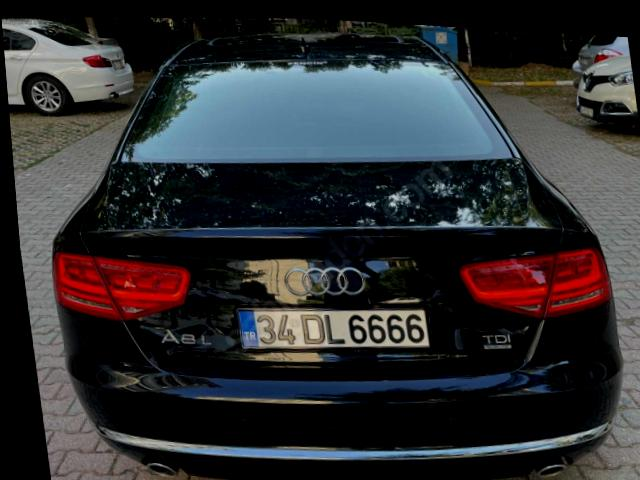plaka: (237, 308, 431, 349)
